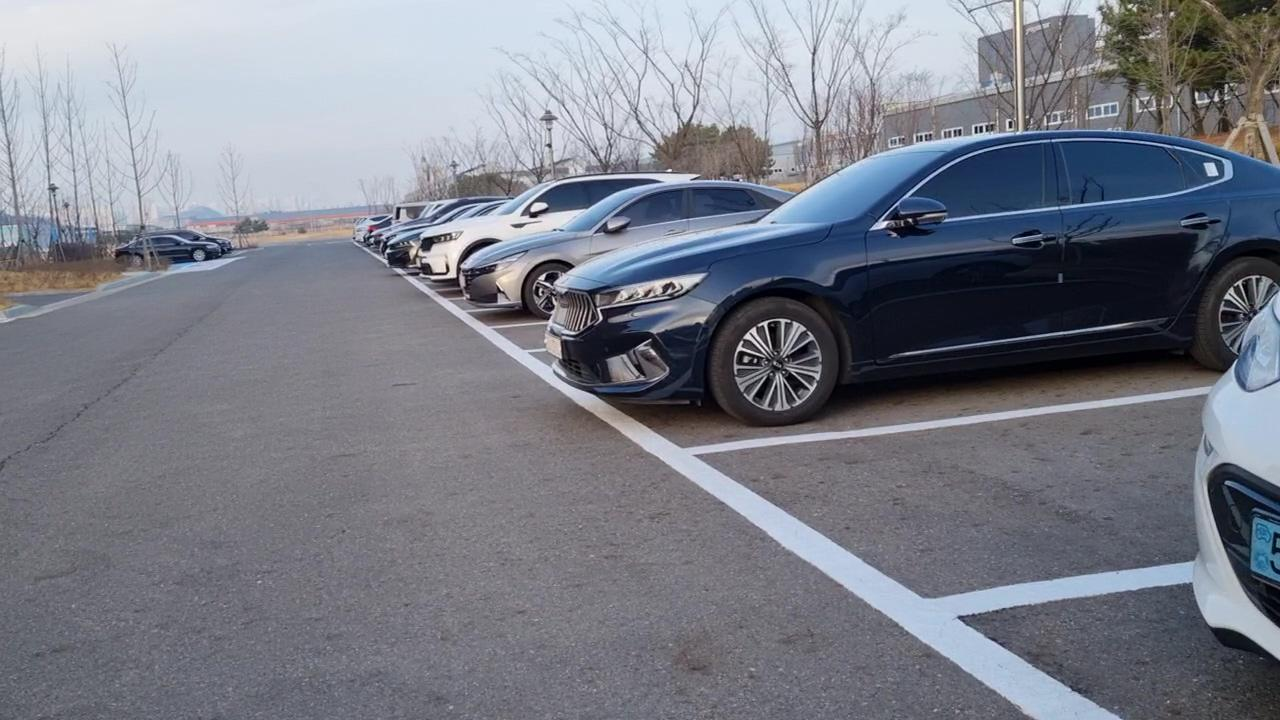empty: (670, 340, 1220, 616)
occupied: (565, 154, 1221, 449), (454, 217, 555, 331)
